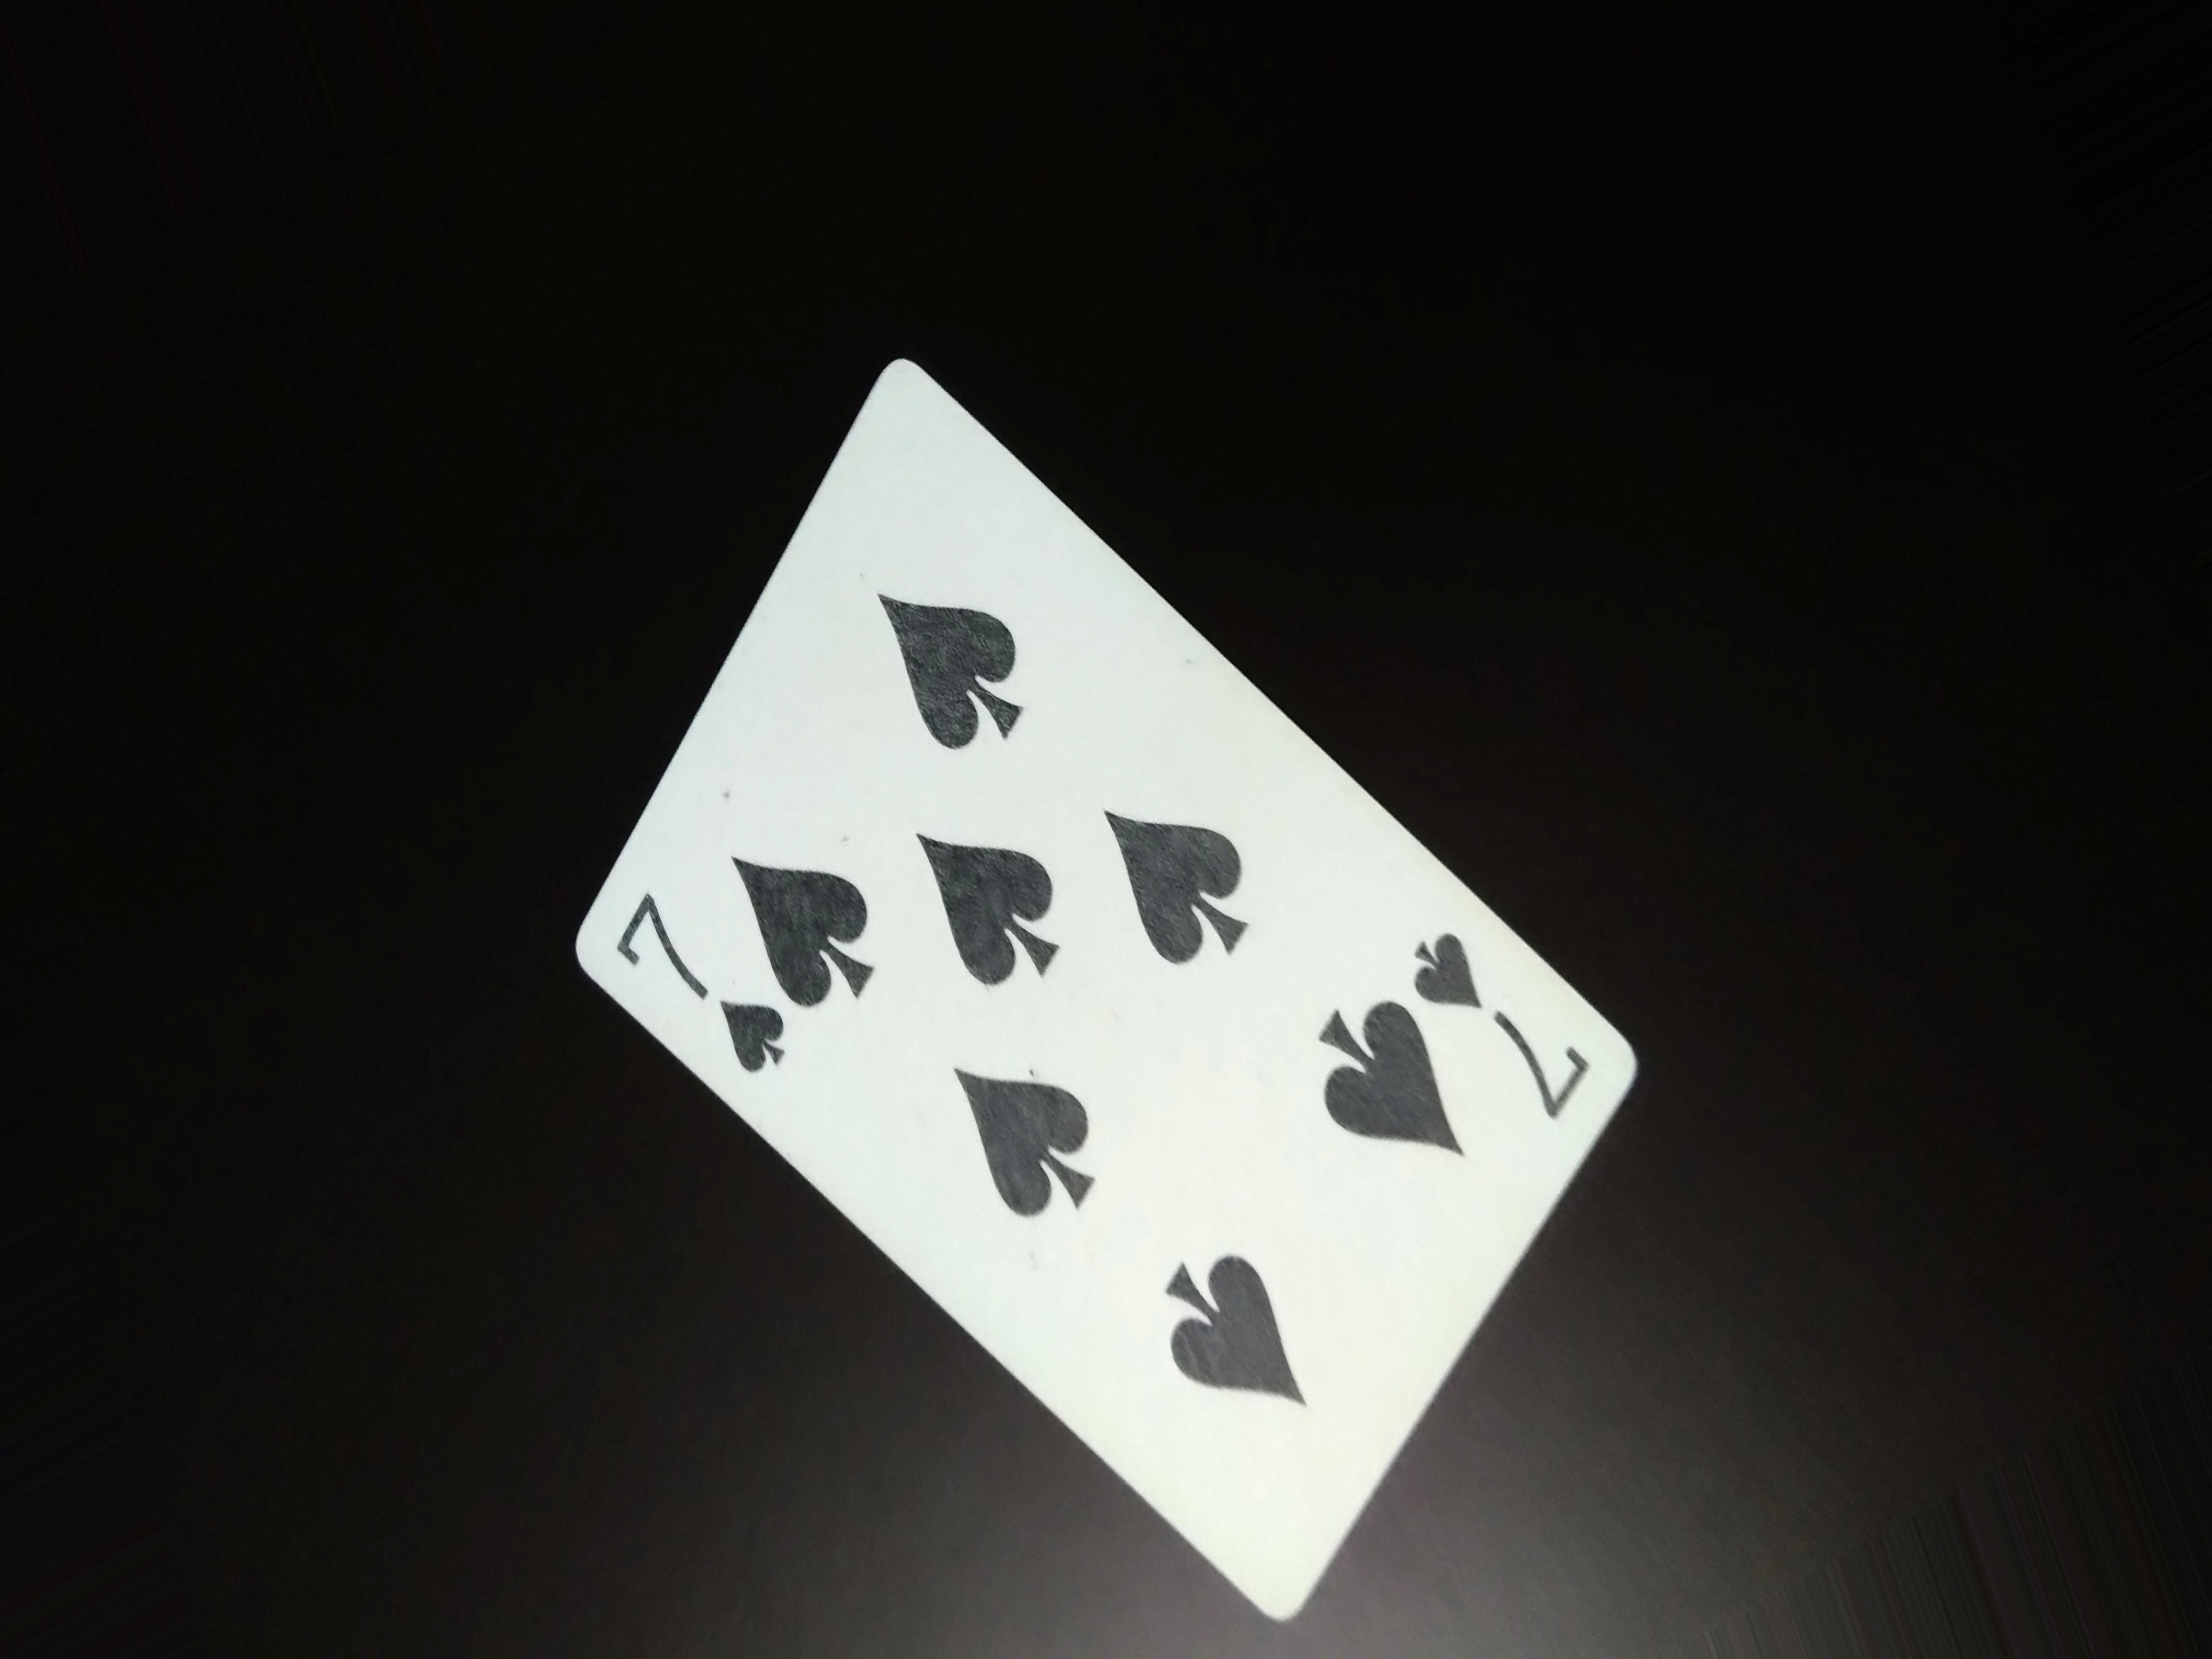7S: (1407, 925, 1625, 1129)
